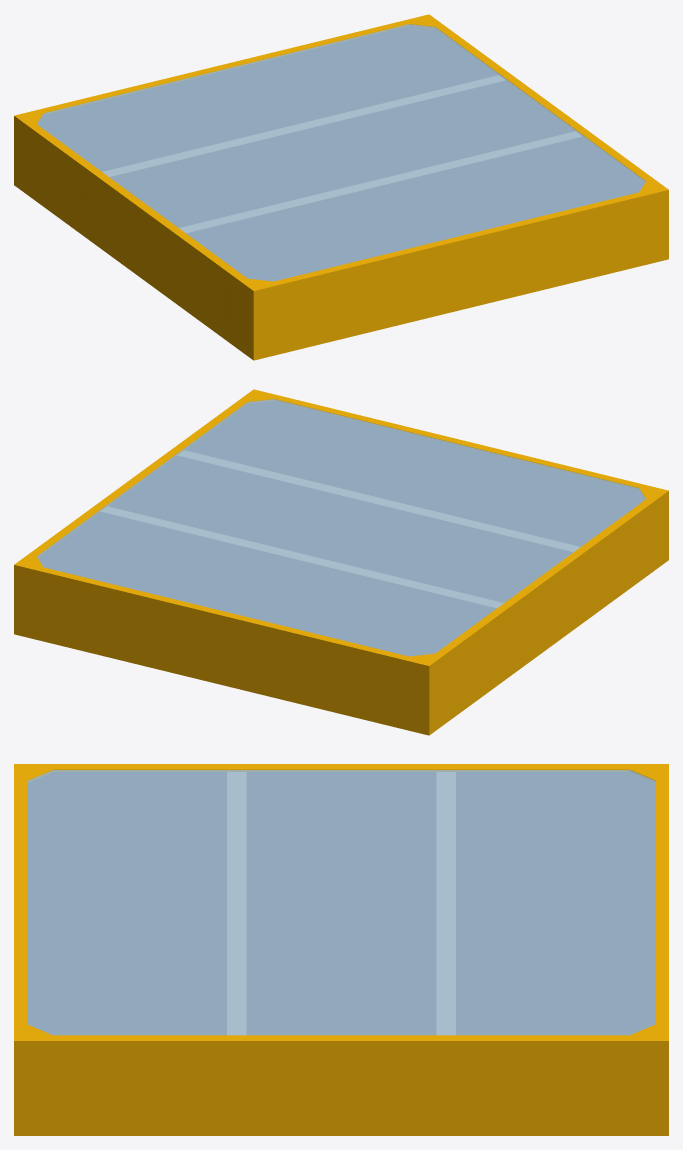
The model's file is epe_solar_flat.dae.
The picture shows the model from 3 angles, top to bottom: view 1: azimuth 30°, elevation 25°; view 2: azimuth 150°, elevation 25°; view 3: azimuth 270°, elevation 25°; orthographic projection. The views are drawn at different scales.
Parts seen in each view (by area): view 1: solar_flat; view 2: solar_flat; view 3: solar_flat.
Boxes of the visible parts, <box> form: solar_flat: <box>14,14,668,360</box>; solar_flat: <box>14,389,668,735</box>; solar_flat: <box>14,764,668,1135</box>.
Size of the model in its own units: 0.25 by 0.25 by 0.04.
